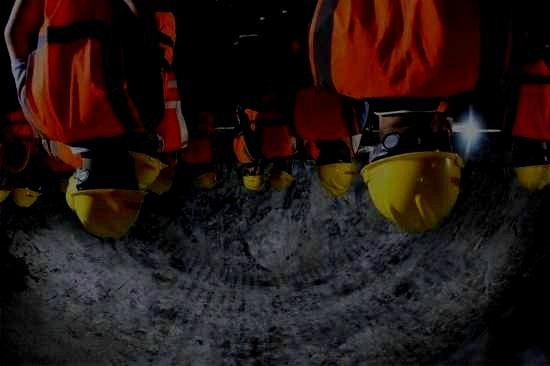helmet: (359, 114, 465, 233), (69, 153, 148, 239), (315, 142, 357, 196), (127, 135, 168, 190), (513, 137, 550, 190), (150, 153, 178, 195), (13, 171, 42, 207), (269, 160, 296, 191), (242, 165, 267, 192), (194, 163, 217, 190), (1, 182, 11, 203)
